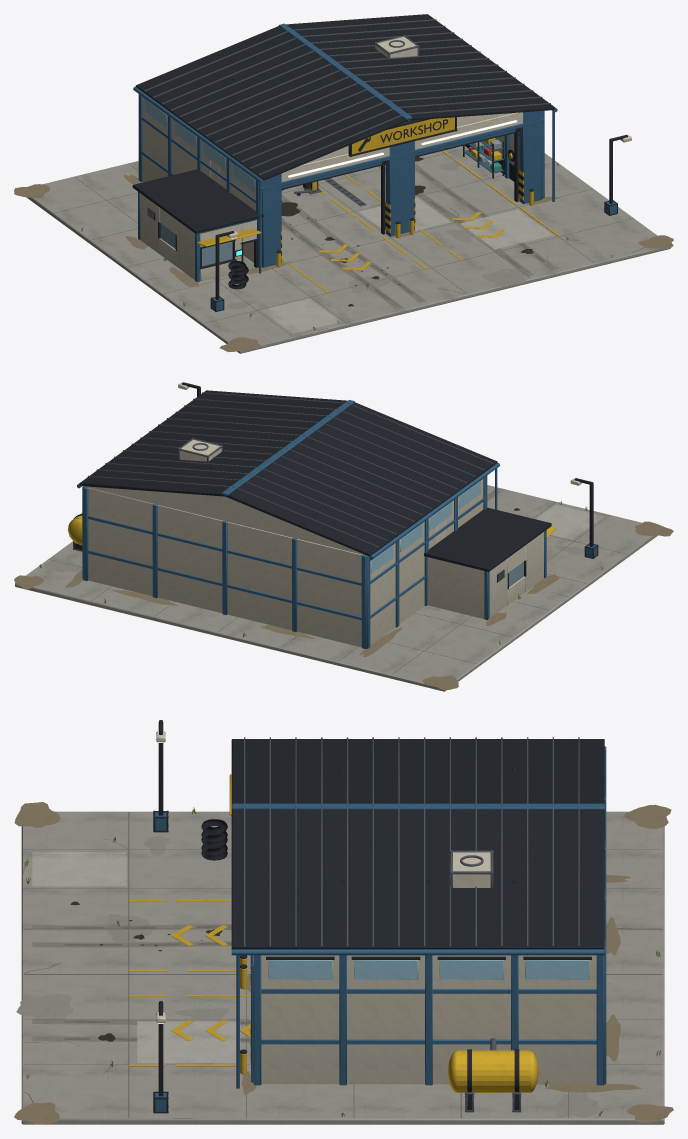
File: workshop.glb
3 views of the same model, one above another, from view 1: azimuth 30°, elevation 25°; view 2: azimuth 150°, elevation 25°; view 3: azimuth 270°, elevation 25° (orthographic). The views are drawn at different scales.
Visible parts, largest first — view 1: workshop.001; view 2: workshop.001; view 3: workshop.001.
Boxes of the visible parts, left/top/right/bottom form: workshop.001: left=14, top=14, right=673, bottom=353; workshop.001: left=14, top=382, right=673, bottom=691; workshop.001: left=14, top=720, right=673, bottom=1124.
Size of what is drawn, in the model's own units: 35.65 by 9.48 by 30.79.
56 materials, 50 textured.
